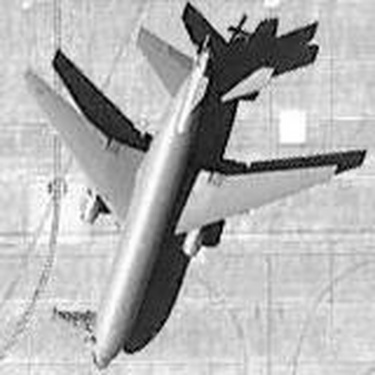airplane: (16, 5, 357, 371)
